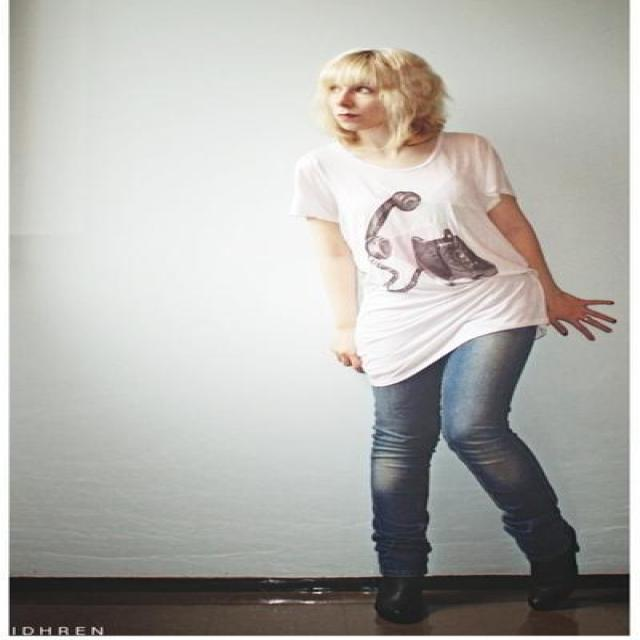pants: (371, 325, 578, 572)
shirt: (298, 125, 547, 385)
shoe: (364, 559, 586, 623)
